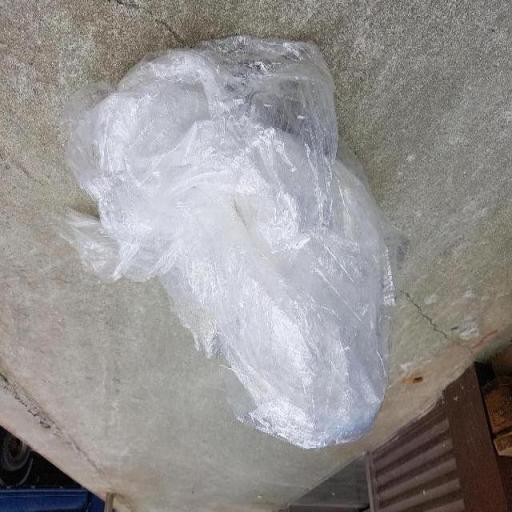plastic-bag: (50, 30, 414, 450)
